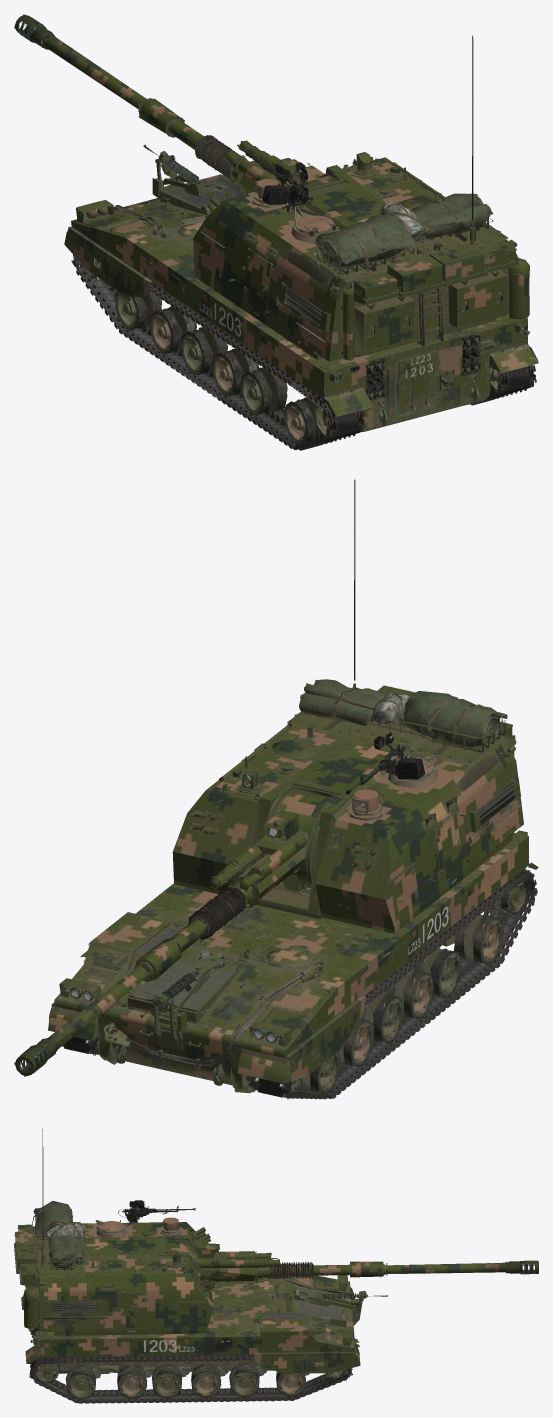
The model's file is type_plz05.glb.
The picture shows the model from 3 angles, top to bottom: view 1: azimuth 30°, elevation 25°; view 2: azimuth 150°, elevation 25°; view 3: azimuth 270°, elevation 25°; orthographic projection. The views are drawn at different scales.
Parts seen in each view (by area): view 1: Object_32, Object_18, Object_34, Object_13, Object_8, Object_25, Object_33, Object_19, Object_30, Object_22, Object_31, Object_17 (+8 smaller); view 2: Object_32, Object_18, Object_25, Object_22, Object_13, Object_34, Object_8, Object_19, Object_31, Object_21, Object_30, Object_33 (+5 smaller); view 3: Object_32, Object_18, Object_25, Object_15, Object_30, Object_5, Object_19, Object_22, Object_34, Object_21, Object_17, Object_33 (+5 smaller).
Part boxes in pixels (left/top/right/bottom): Object_32: left=193, top=157, right=518, bottom=361; Object_18: left=71, top=166, right=527, bottom=431; Object_34: left=278, top=152, right=508, bottom=360; Object_13: left=115, top=291, right=323, bottom=444; Object_8: left=71, top=254, right=365, bottom=450; Object_25: left=14, top=14, right=339, bottom=193; Object_33: left=254, top=166, right=497, bottom=352; Object_19: left=64, top=155, right=538, bottom=416; Object_30: left=411, top=193, right=529, bottom=319; Object_22: left=83, top=174, right=439, bottom=414; Object_31: left=199, top=196, right=443, bottom=356; Object_17: left=111, top=163, right=529, bottom=426; Object_32: left=172, top=683, right=523, bottom=933; Object_18: left=54, top=832, right=528, bottom=1093; Object_25: left=14, top=789, right=330, bottom=1076; Object_22: left=119, top=917, right=455, bottom=1039; Object_13: left=294, top=914, right=503, bottom=1093; Object_34: left=219, top=691, right=520, bottom=840; Object_8: left=248, top=867, right=537, bottom=1099; Object_19: left=48, top=862, right=538, bottom=1085; Object_31: left=271, top=737, right=516, bottom=917; Object_21: left=69, top=949, right=225, bottom=1050; Object_30: left=299, top=679, right=414, bottom=725; Object_33: left=215, top=692, right=515, bottom=894; Object_32: left=14, top=1220, right=214, bottom=1335; Object_18: left=30, top=1276, right=359, bottom=1375; Object_25: left=105, top=1240, right=538, bottom=1287; Object_15: left=65, top=1363, right=305, bottom=1399; Object_30: left=15, top=1235, right=202, bottom=1328; Object_5: left=29, top=1354, right=352, bottom=1403; Object_19: left=21, top=1286, right=360, bottom=1373; Object_22: left=37, top=1275, right=346, bottom=1344; Object_34: left=24, top=1201, right=184, bottom=1320; Object_21: left=293, top=1289, right=387, bottom=1344; Object_17: left=28, top=1276, right=359, bottom=1375; Object_33: left=25, top=1209, right=200, bottom=1332.
Size of the model in its own units: 3.8 by 6.31 by 11.55.
Materials: 20 (20 with a texture image).
